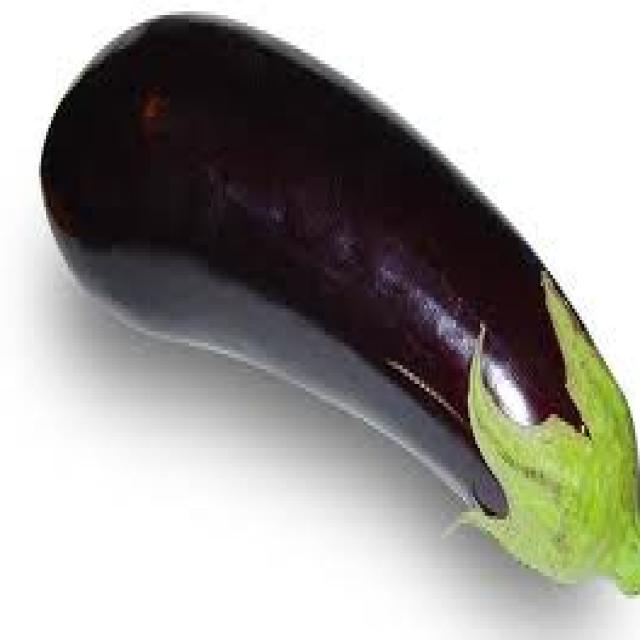aubergine: (24, 8, 640, 598)
